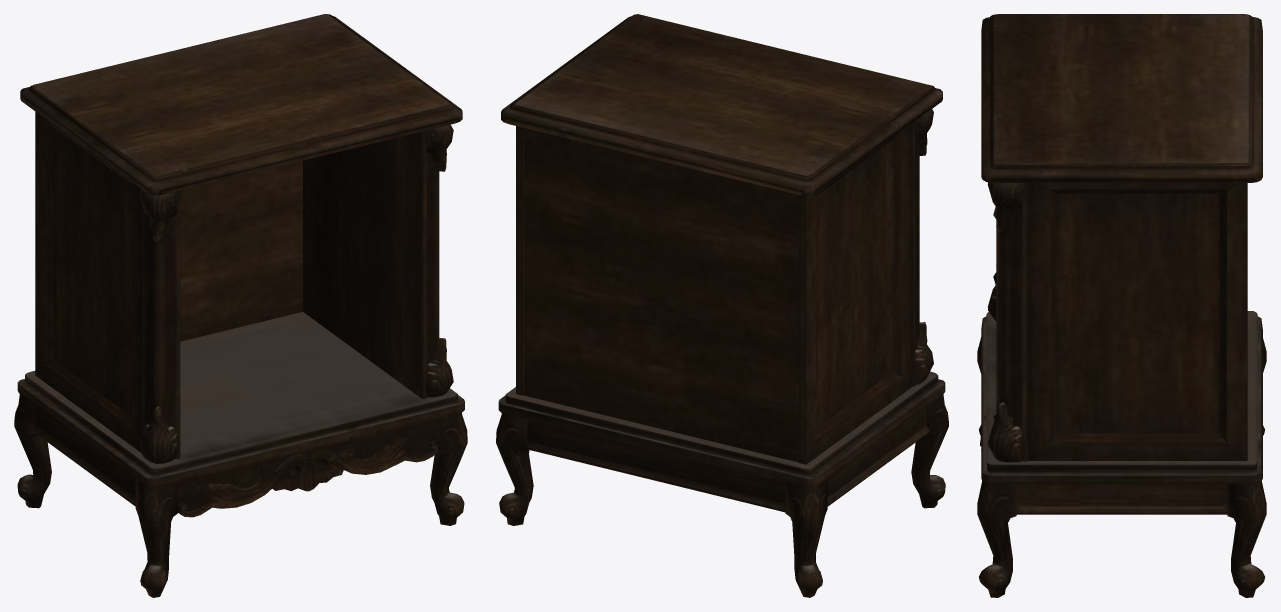
The model's file is nachttisch.glb.
3 renders of one model, left to right at view 1: azimuth 30°, elevation 25°; view 2: azimuth 150°, elevation 25°; view 3: azimuth 270°, elevation 25°, orthographic. The views are drawn at different scales.
Parts seen in each view (by area): view 1: ClassicNightstand_01; view 2: ClassicNightstand_01; view 3: ClassicNightstand_01.
Boxes of the visible parts, left/top/right/bottom form: ClassicNightstand_01: left=14, top=14, right=467, bottom=597; ClassicNightstand_01: left=496, top=14, right=948, bottom=597; ClassicNightstand_01: left=977, top=14, right=1266, bottom=597.
Bounding box in the file's own units: 0.5678 × 0.7 × 0.4242.
1 material, 1 textured.
